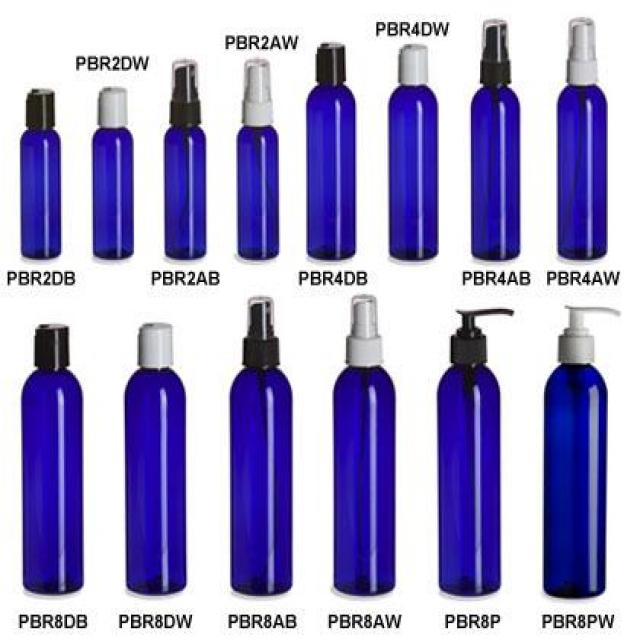plastic_bottle: (110, 316, 210, 611), (226, 293, 308, 612), (462, 15, 538, 269), (16, 76, 76, 269)
